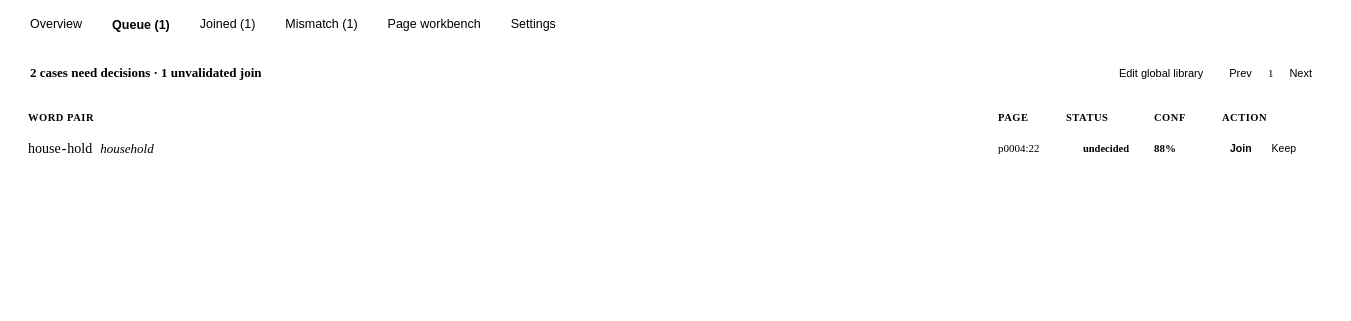
it: HyphenJoinTool — page workbench panel › clicking open-mock button transitions to workbench panel with page controls
This screenshot has width=1351, height=321.
Check: the element with test id "hyphen-tab-bar" is shown, box [16,8,570,42]
Click the button with test id "hyphen-tab-workbench": (434, 25) [374,8,495,42]
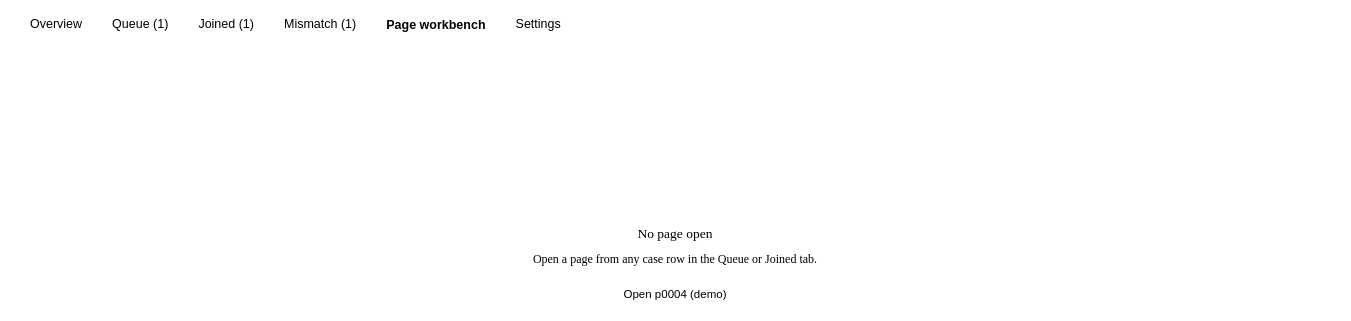
Click the button with test id "hyphen-workbench-open-mock": (675, 294) [610,282,740,304]
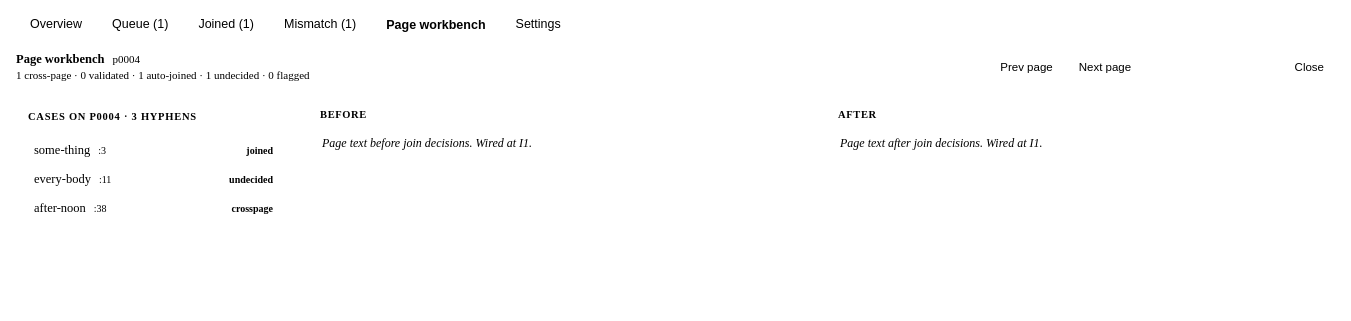
Check: the element with test id "hyphen-workbench-panel" is shown, box [16,52,1334,215]
